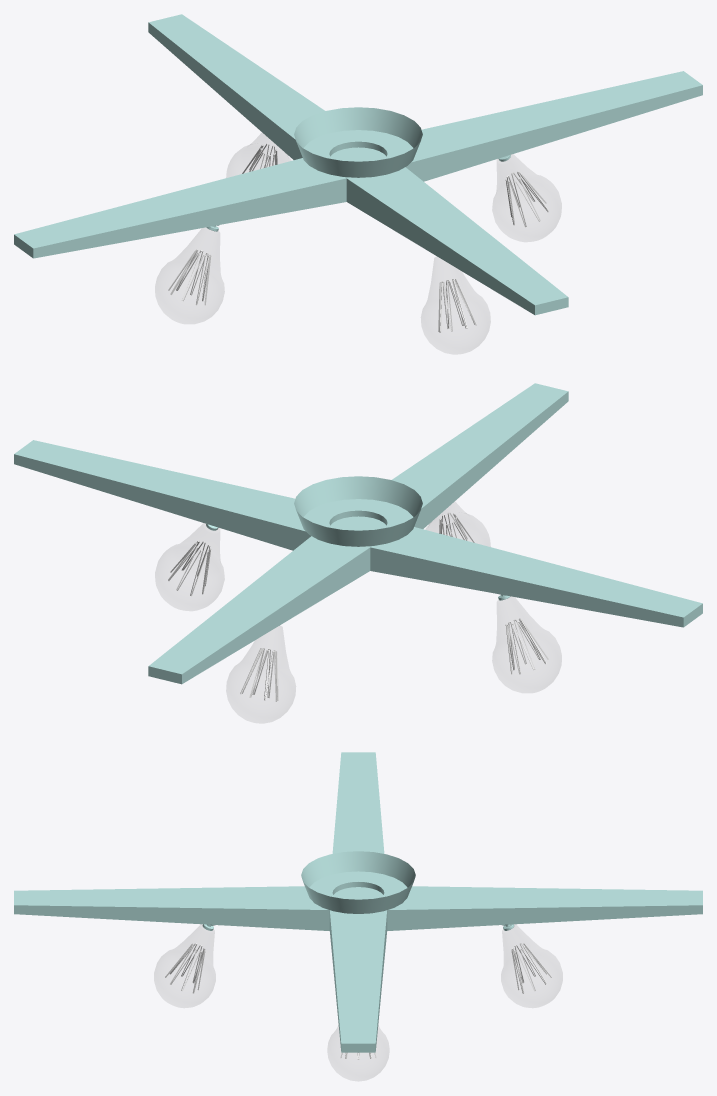
Rendered from ceiling light 1 w.fbx.
3 views of the same model, one above another, from view 1: azimuth 30°, elevation 25°; view 2: azimuth 150°, elevation 25°; view 3: azimuth 270°, elevation 25° (orthographic). The views are drawn at different scales.
Visible parts, largest first — view 1: ceiling light base 1, ceiling light 2, ceiling light 1, ceiling light 3, ceiling light 4; view 2: ceiling light base 1, ceiling light 2, ceiling light 4, ceiling light 3, ceiling light 1; view 3: ceiling light base 1, ceiling light 1, ceiling light 4, ceiling light 3.
Part boxes in pixels (box(x1,y1,x2,y2)): ceiling light base 1: box(14, 14, 702, 315); ceiling light 2: box(155, 225, 224, 323); ceiling light 1: box(421, 257, 490, 353); ceiling light 3: box(493, 155, 561, 241); ceiling light 4: box(226, 133, 290, 177); ceiling light base 1: box(14, 383, 702, 684); ceiling light 2: box(492, 594, 561, 692); ceiling light 4: box(226, 626, 295, 722); ceiling light 3: box(155, 524, 223, 610); ceiling light 1: box(426, 502, 490, 546); ceiling light base 1: box(14, 752, 702, 1052); ceiling light 1: box(154, 924, 215, 1007); ceiling light 4: box(501, 924, 562, 1007); ceiling light 3: box(328, 1027, 388, 1080).
Size of the model in its own units: 1.8 by 1.8 by 0.3738.
